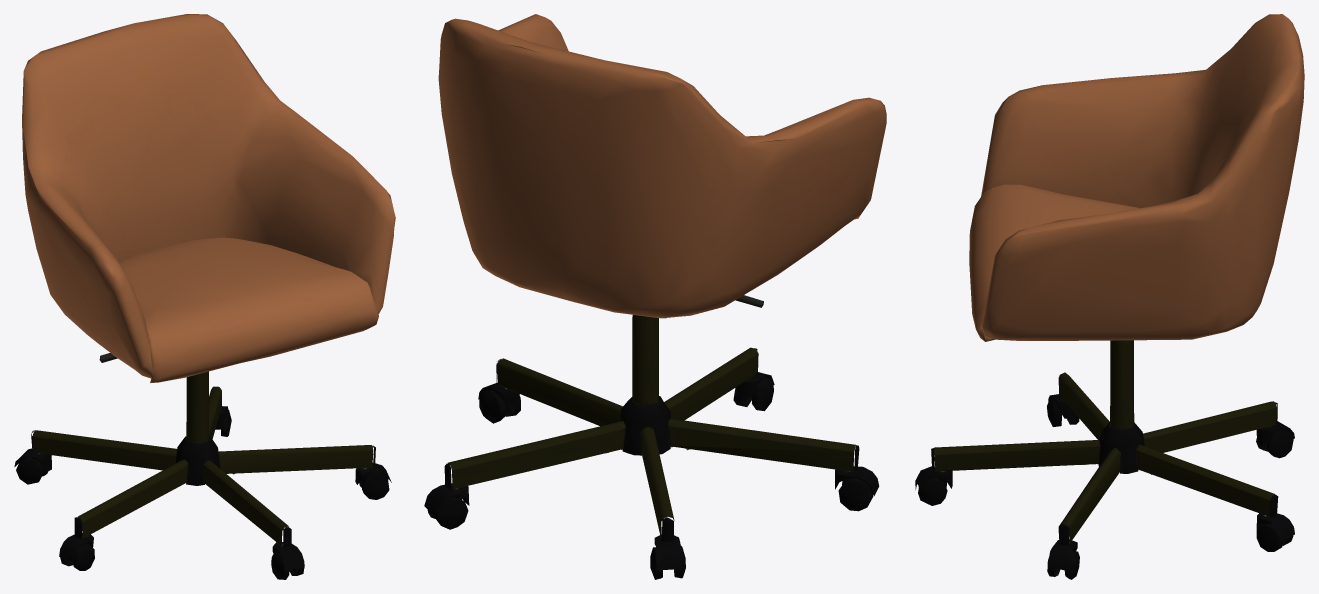
Rendered from 13 - TOSSBERG MALSKÄR Swivel chair - Grann light brownblack.glb.
3 renders of one model, left to right at view 1: azimuth 30°, elevation 25°; view 2: azimuth 150°, elevation 25°; view 3: azimuth 270°, elevation 25°, orthographic. The views are drawn at different scales.
Visible parts, largest first — view 1: ProcessedMeshNode; view 2: ProcessedMeshNode; view 3: ProcessedMeshNode.
Boxes of the visible parts, left/top/right/bottom form: ProcessedMeshNode: left=14, top=14, right=395, bottom=579; ProcessedMeshNode: left=424, top=14, right=886, bottom=579; ProcessedMeshNode: left=915, top=14, right=1304, bottom=579.
Bounding box in the file's own units: 0.6729 × 0.8292 × 0.6565.
Materials: 1 (1 with a texture image).
